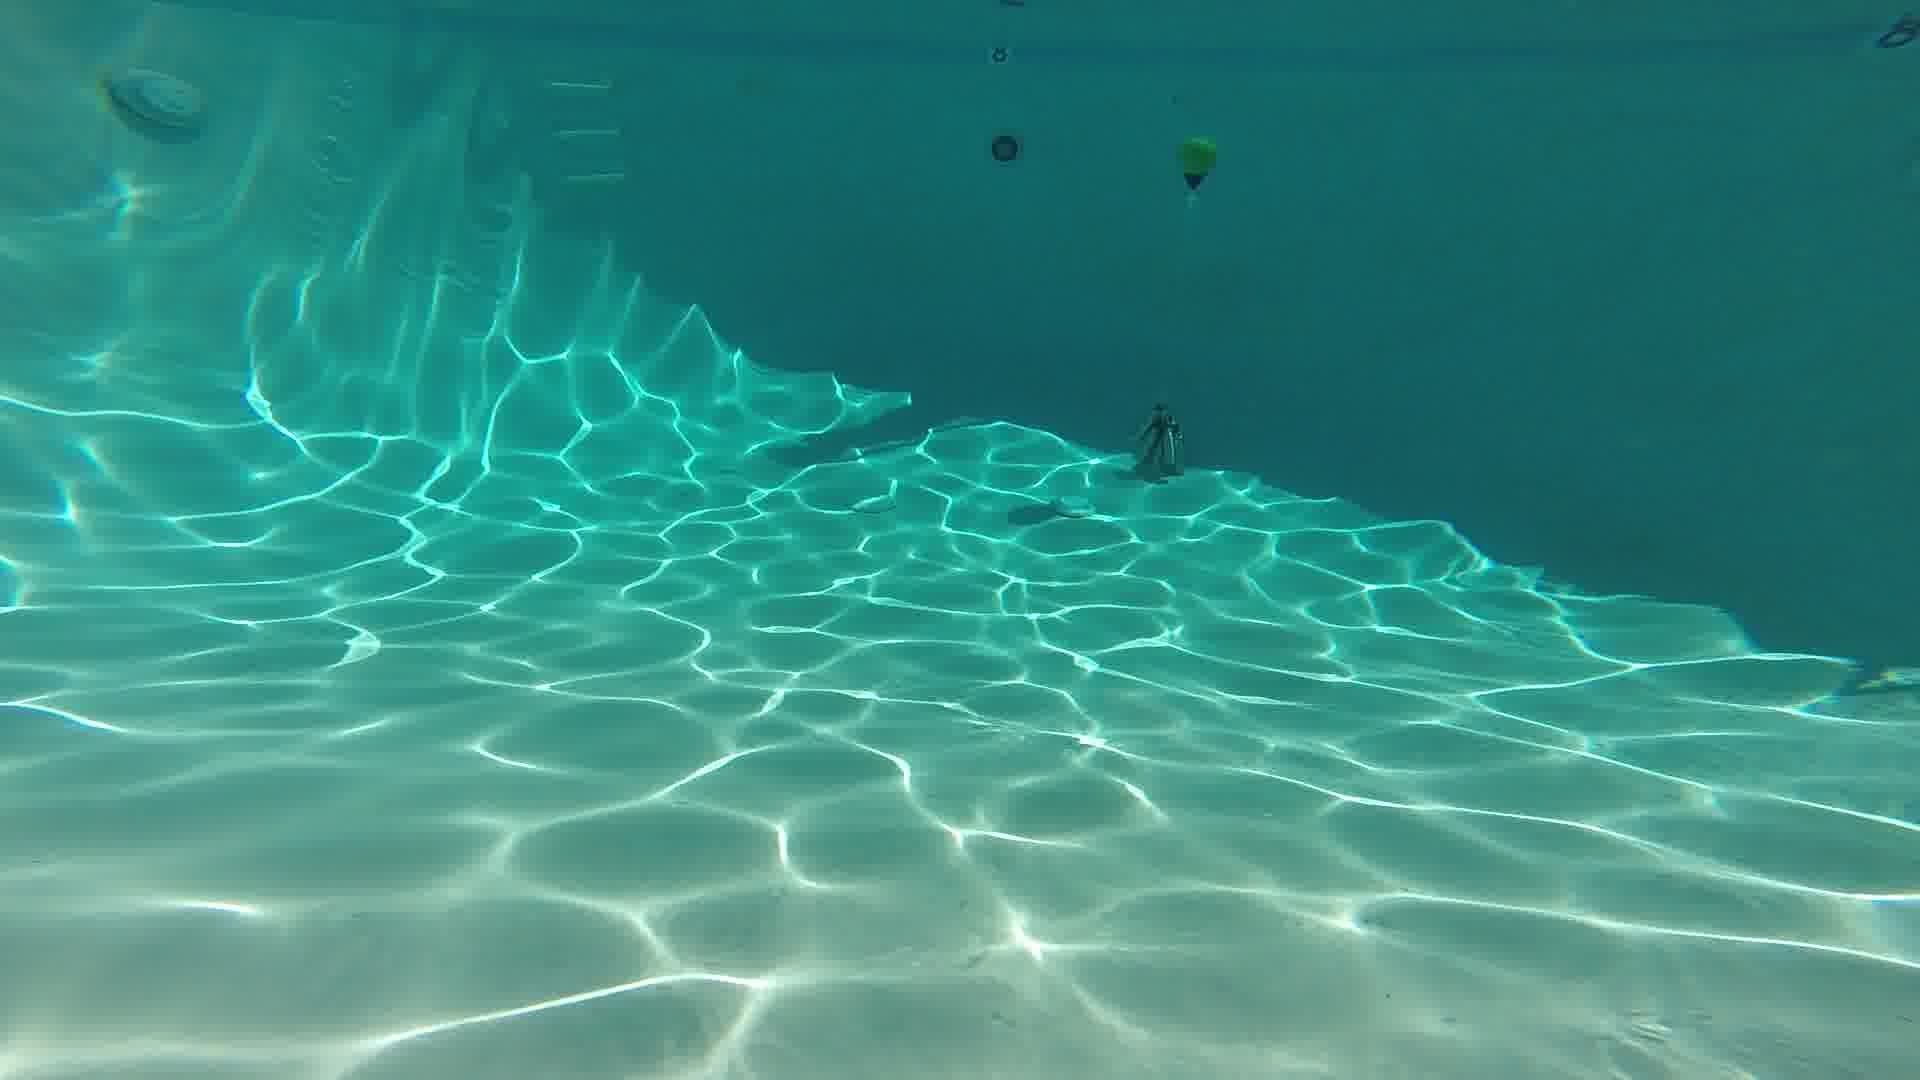yellow_buoy: (1182, 136, 1217, 191)
